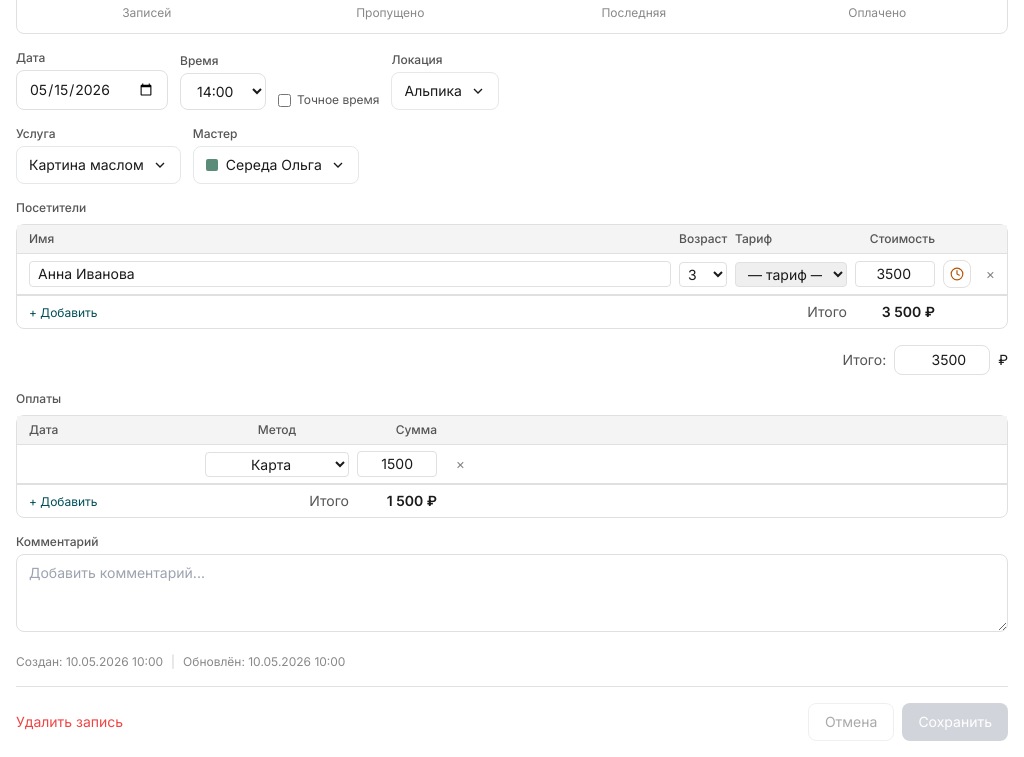
Test case: ClientRecordTab — API interactions › dialog cancel closes without enqueuing or resolving
(page scrolled)
Click the button "Удалить запись" at [70, 722], box x1=16 y1=712 x2=123 y2=732
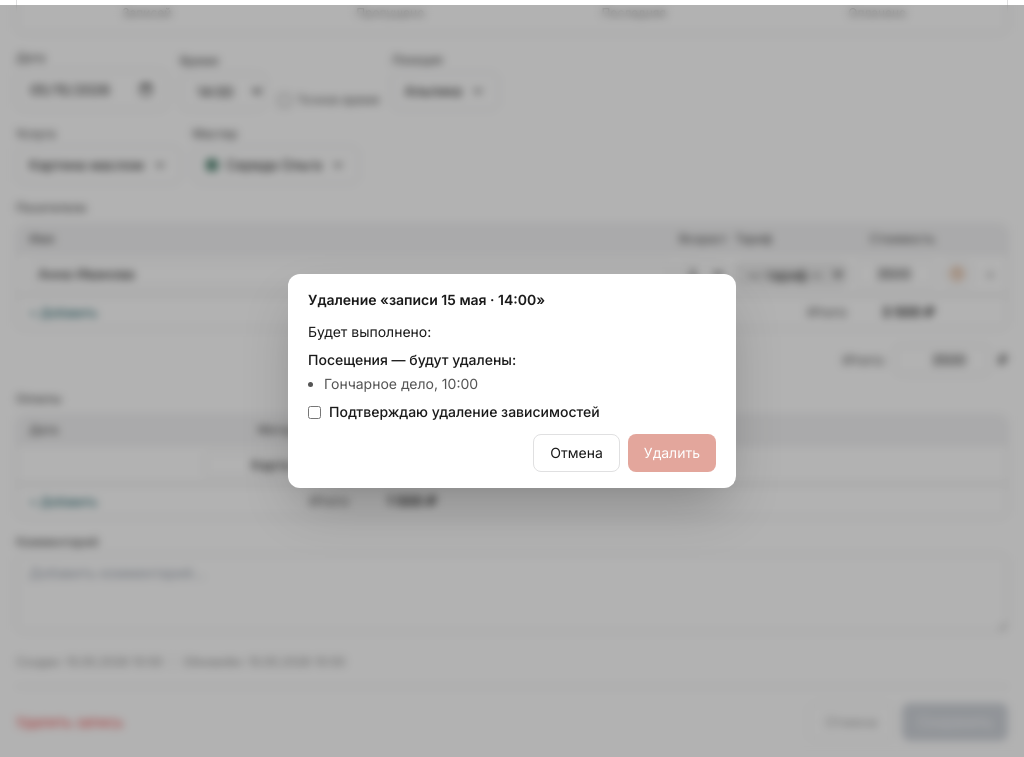
Expected: the element with test id "delete-dialog" is shown, x1=288 y1=274 x2=736 y2=488
Click the button with test id "delete-dialog-cancel-btn" at [577, 453], box x1=533 y1=434 x2=620 y2=472
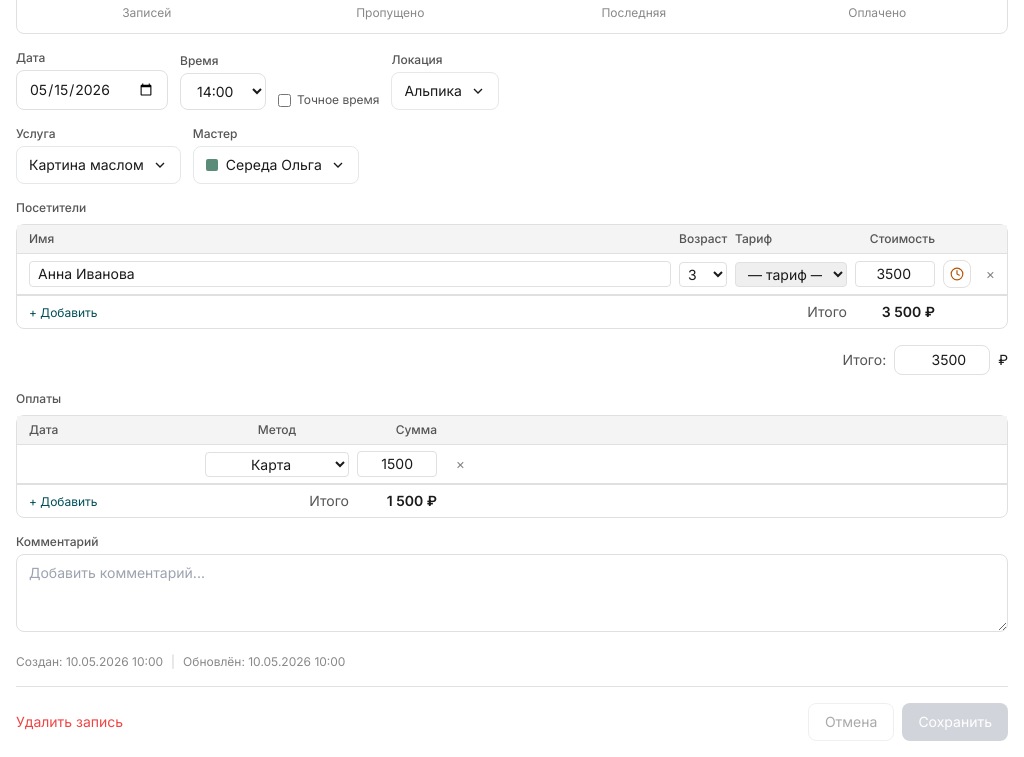
Expected: the element with test id "delete-dialog" is gone
